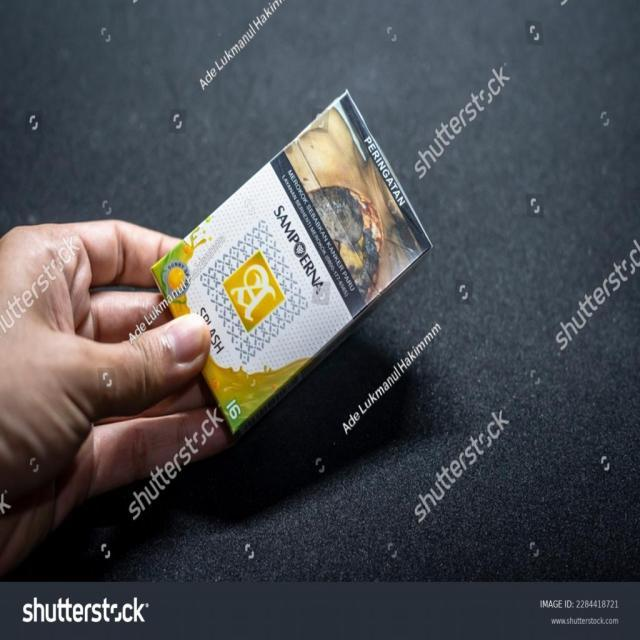smoking: (112, 87, 470, 439)
